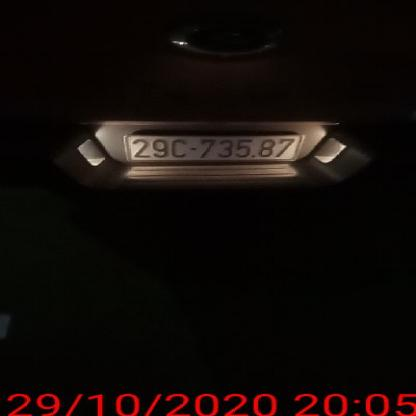biensoxe: (122, 126, 320, 170)
